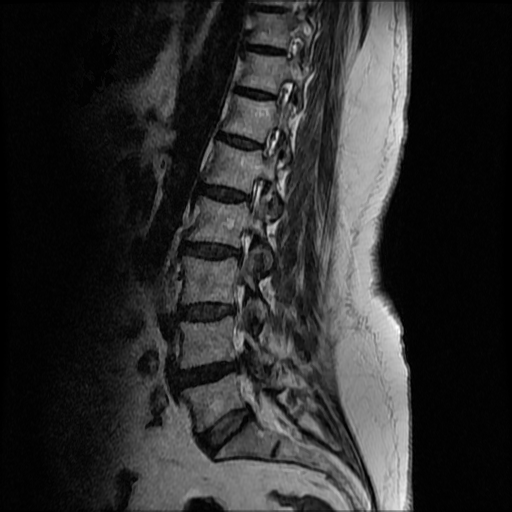LFS0: (224, 219, 261, 274), (238, 171, 275, 218)
